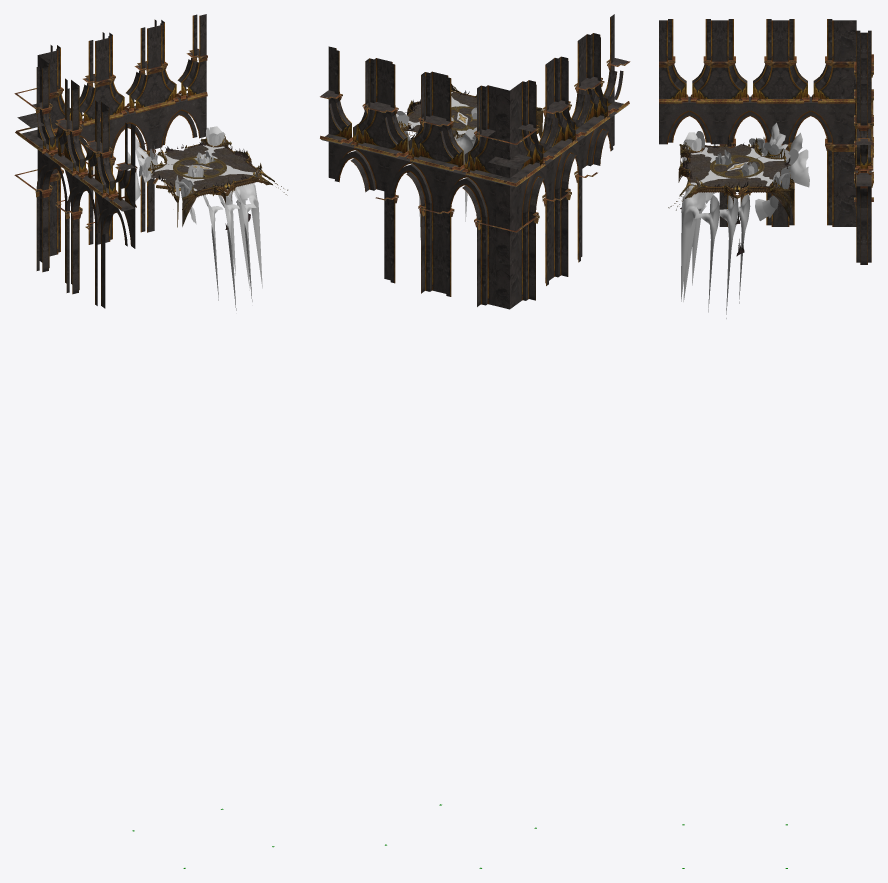
The model's file is DiabloMap.obj.
3 views of the same model, side by side, from view 1: azimuth 30°, elevation 25°; view 2: azimuth 150°, elevation 25°; view 3: azimuth 270°, elevation 25° (orthographic). The views are drawn at different scales.
Parts seen in each view (by area): view 1: a4dun_spire_Walls_A_White_A_CORRUPTED_mstr, a4dun_spire_Decorations_A_Gold_A_CORRUPTED_mstr, a4Dun_Diablo_Crystal_Arch_Bloom2_mstr, a4dun_Diablo_Arena_CrystalFloor_mstr, a4dun_Diablo_Arena_Railings_A_mstr, a4dun_Diablo_Arena_Wings_mstr, a4dun_Diablo_Arena_FloorDecals_A_mstr; view 2: a4dun_spire_Walls_A_White_A_CORRUPTED_mstr, a4dun_spire_Decorations_A_Gold_A_CORRUPTED_mstr, a4dun_Diablo_Arena_CrystalFloor_mstr; view 3: a4dun_spire_Walls_A_White_A_CORRUPTED_mstr, a4Dun_Diablo_Crystal_Arch_Bloom2_mstr, a4dun_spire_Decorations_A_Gold_A_CORRUPTED_mstr, a4dun_Diablo_Arena_CrystalFloor_mstr, a4dun_Diablo_Arena_Railings_A_mstr, a4dun_Diablo_Arena_Wings_mstr, a4dun_Diablo_Arena_FloorDecals_A_mstr, a4dun_Diablo_Arena_FloorDecals_B_mstr.
Part boxes in pixels (x1,y1,x2,y2): a4dun_spire_Walls_A_White_A_CORRUPTED_mstr: (17, 14, 206, 308); a4dun_spire_Decorations_A_Gold_A_CORRUPTED_mstr: (14, 48, 230, 230); a4Dun_Diablo_Crystal_Arch_Bloom2_mstr: (127, 126, 262, 310); a4dun_Diablo_Arena_CrystalFloor_mstr: (151, 145, 258, 190); a4dun_Diablo_Arena_Railings_A_mstr: (148, 136, 274, 227); a4dun_Diablo_Arena_Wings_mstr: (139, 127, 224, 199); a4dun_Diablo_Arena_FloorDecals_A_mstr: (151, 145, 259, 190); a4dun_spire_Walls_A_White_A_CORRUPTED_mstr: (321, 14, 627, 309); a4dun_spire_Decorations_A_Gold_A_CORRUPTED_mstr: (320, 59, 630, 232); a4dun_Diablo_Arena_CrystalFloor_mstr: (408, 92, 476, 136); a4dun_spire_Walls_A_White_A_CORRUPTED_mstr: (659, 19, 871, 264); a4Dun_Diablo_Crystal_Arch_Bloom2_mstr: (681, 122, 809, 318); a4dun_spire_Decorations_A_Gold_A_CORRUPTED_mstr: (659, 54, 873, 208); a4dun_Diablo_Arena_CrystalFloor_mstr: (685, 144, 790, 188); a4dun_Diablo_Arena_Railings_A_mstr: (678, 143, 794, 219); a4dun_Diablo_Arena_Wings_mstr: (683, 131, 798, 189); a4dun_Diablo_Arena_FloorDecals_A_mstr: (690, 147, 784, 186); a4dun_Diablo_Arena_FloorDecals_B_mstr: (710, 155, 764, 178).
Bounding box in the file's own units: 82.98 × 330 × 82.98.
